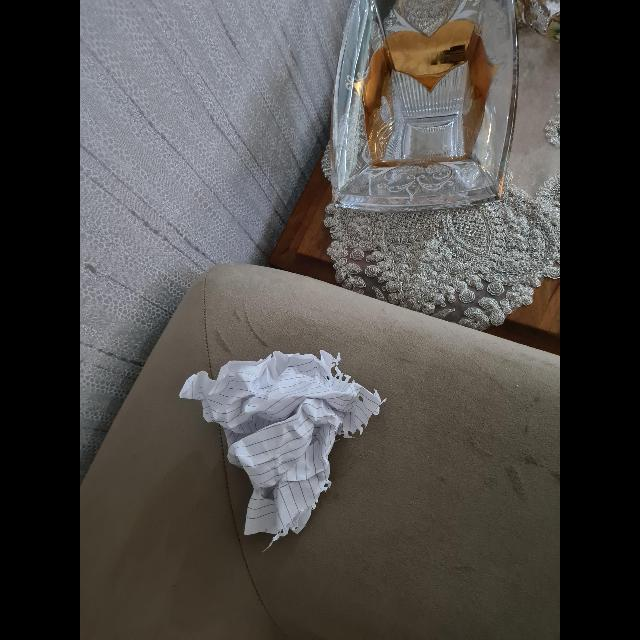scrap_paper: (190, 344, 382, 540)
